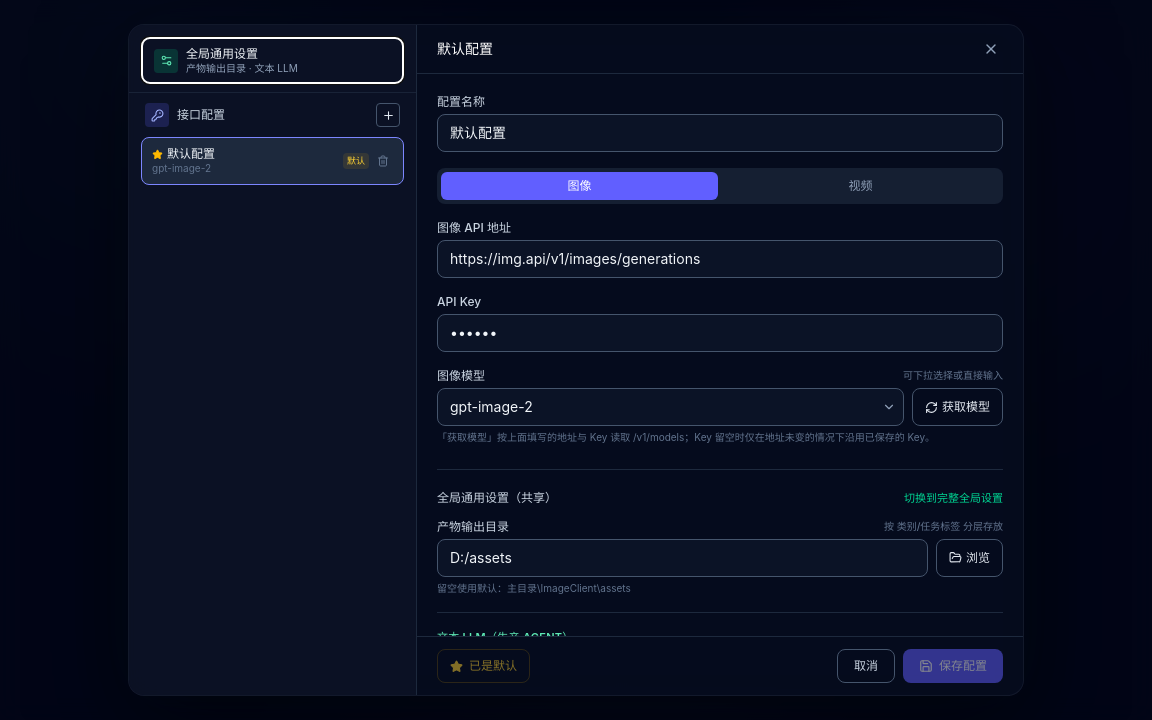
Scenario: SettingsPage › surfaces a failed model fetch without touching the configured model
Check: the field showing "默认配置" is shown, box [437,114,1003,152]
Click the button with aria-label "获取模型（图像模型）": (958, 407) [912,388,1003,426]
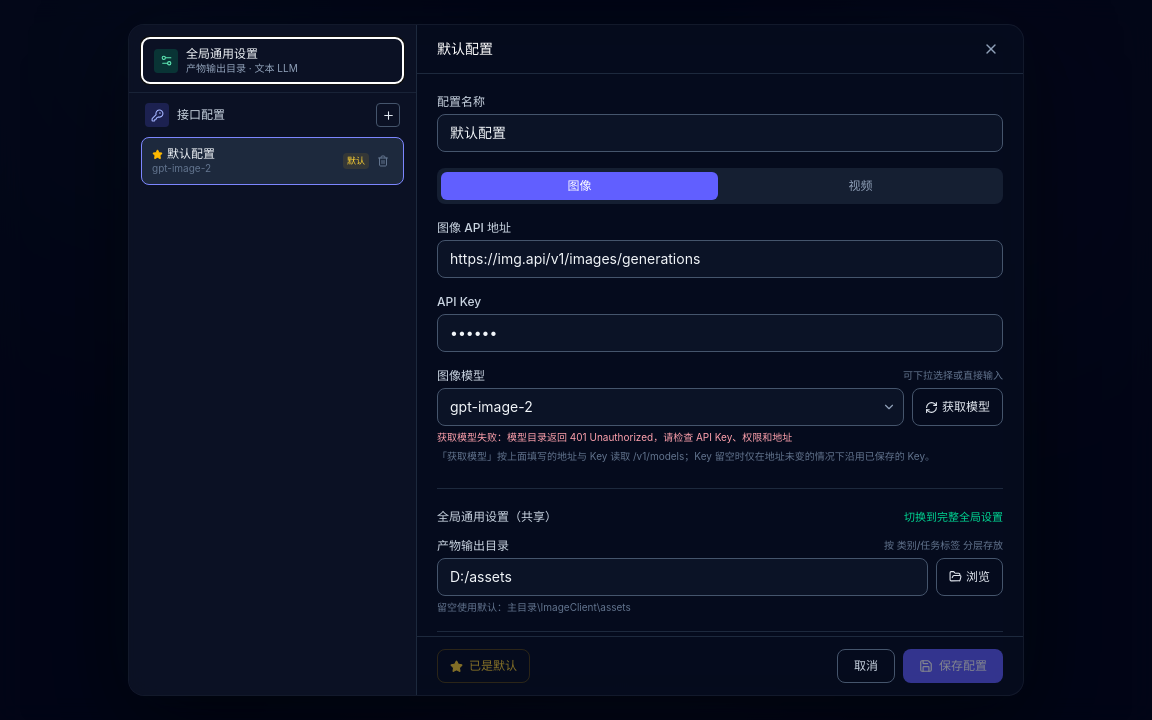
Check: the dropdown named "图像模型" holds "gpt-image-2", box [437,388,904,426]
Check: the text "获取模型失败：模型目录返回 401 Unauthorized，请检查 API Key、权限和地址" is shown, box [437,431,792,443]
